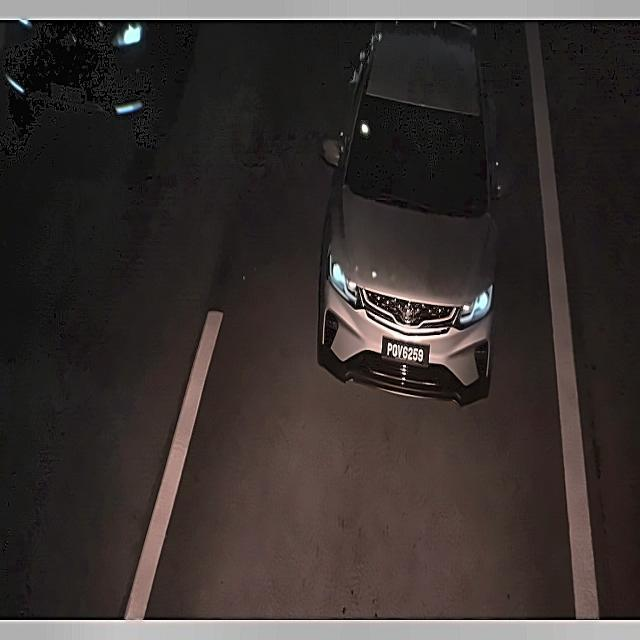car: (377, 325, 434, 375), (44, 73, 96, 118)
